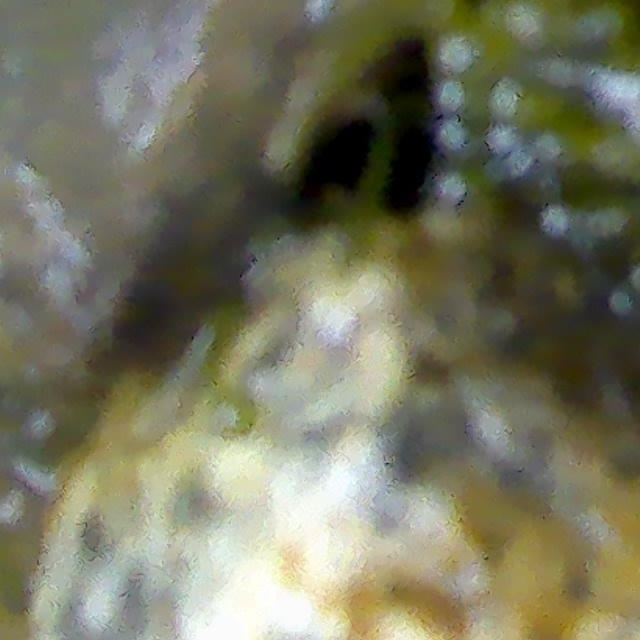SeaGrape: (435, 19, 495, 74), (486, 81, 540, 122), (435, 78, 476, 116)
